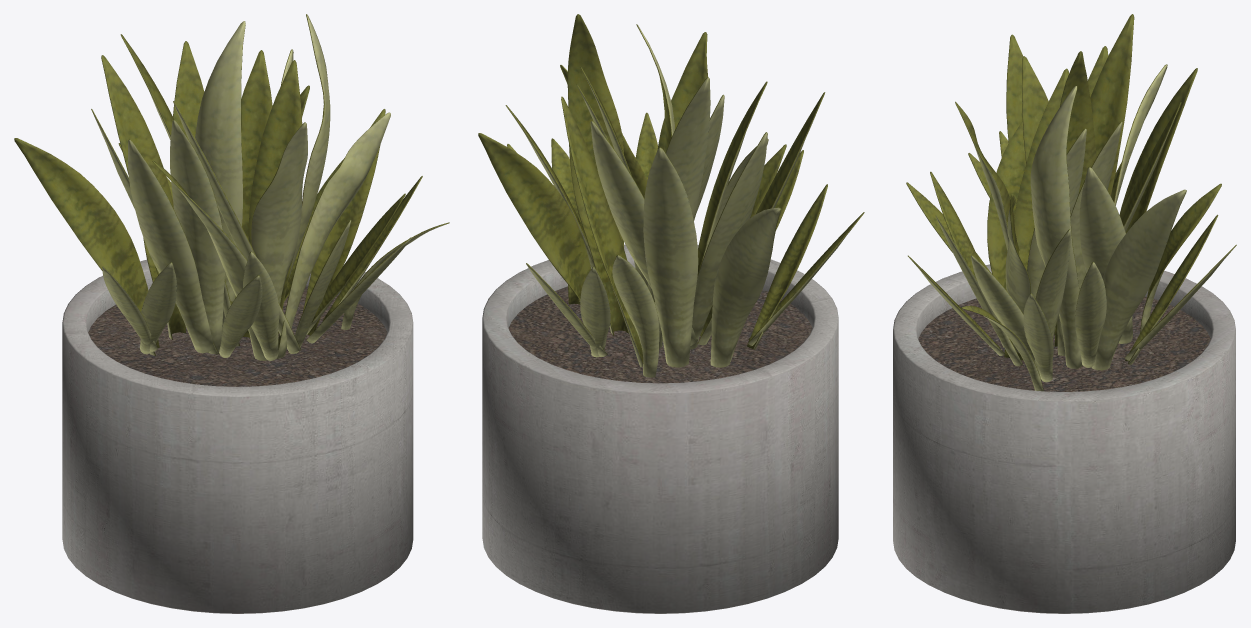
3 renders of one model, left to right at view 1: azimuth 30°, elevation 25°; view 2: azimuth 150°, elevation 25°; view 3: azimuth 270°, elevation 25°, orthographic. The views are drawn at different scales.
Visible parts, largest first — view 1: PlantD_0; view 2: PlantD_0; view 3: PlantD_0.
Part boxes in pixels (x1,y1,x2,y2): PlantD_0: [14, 14, 449, 613]; PlantD_0: [478, 14, 864, 613]; PlantD_0: [893, 14, 1236, 613].
Size of the model in its own units: 0.2171 by 0.3122 by 0.1951.
1 material, 1 textured.
